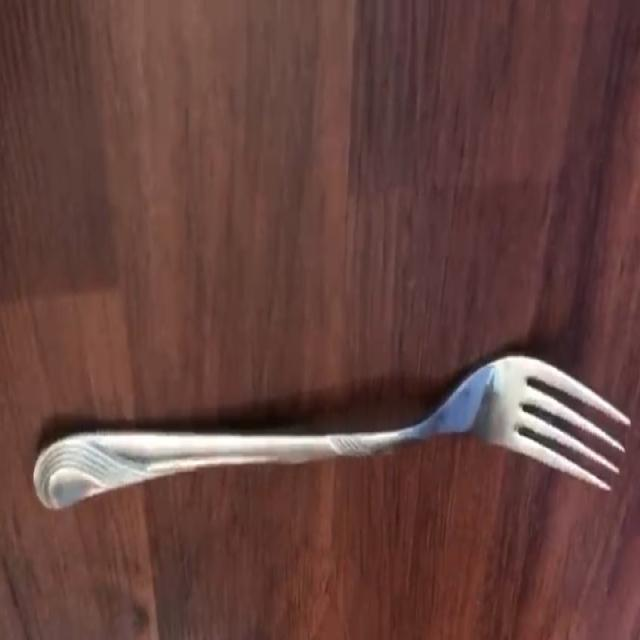spoon: (34, 356, 630, 509)
